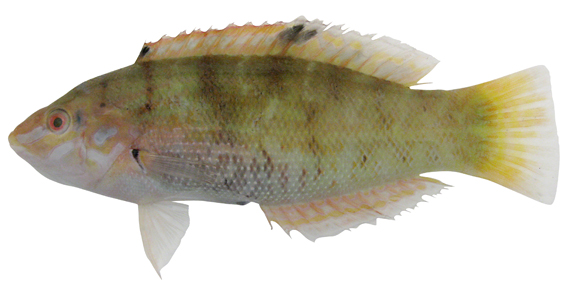fish: (7, 16, 559, 279)
